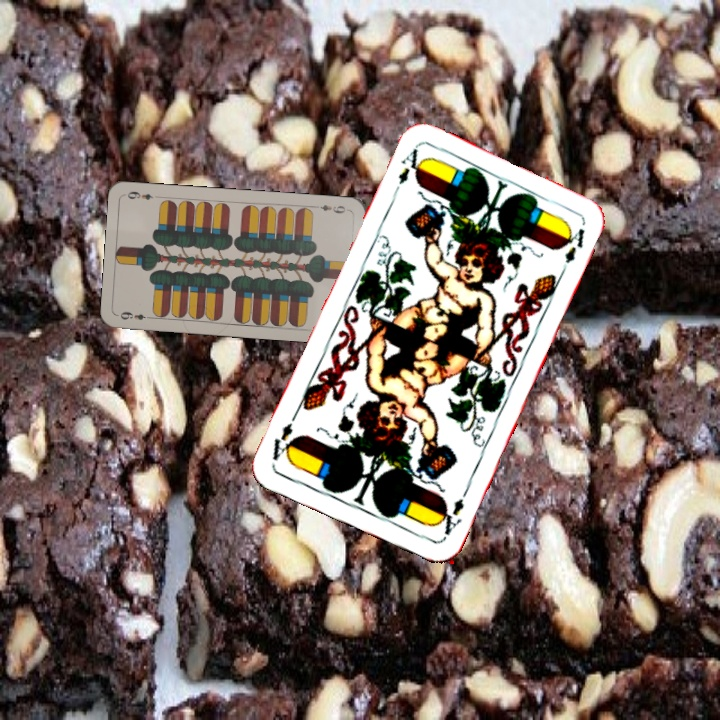E9: (311, 200, 351, 216), (116, 307, 155, 322)
EA: (434, 484, 472, 540), (388, 144, 421, 200)
